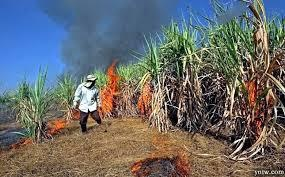fire: (99, 60, 120, 114), (136, 81, 154, 112), (47, 112, 69, 133), (3, 135, 31, 149)
